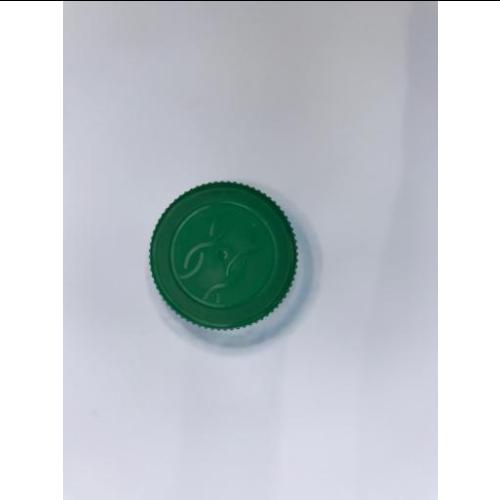plastic: (149, 180, 298, 330)
